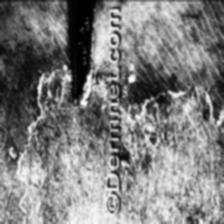Toxin: (130, 104, 224, 224), (36, 108, 98, 224)
